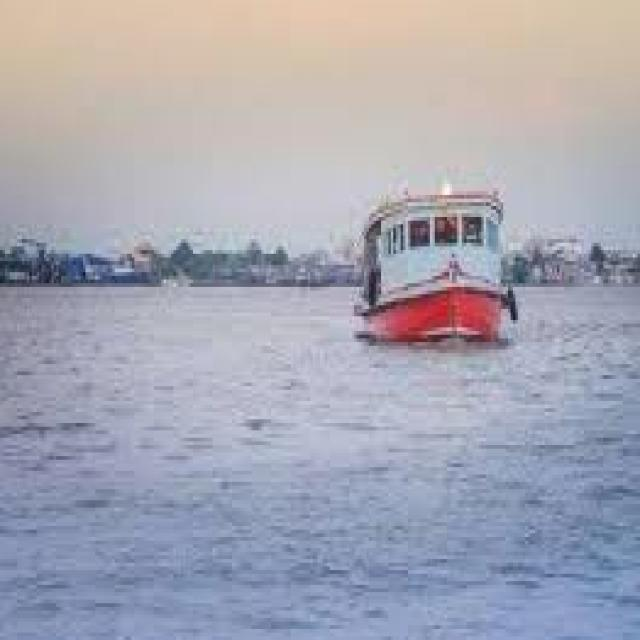houseboat: (326, 188, 518, 359)
